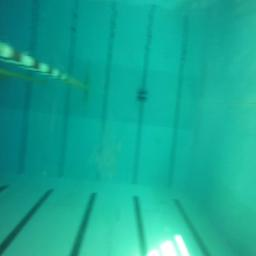Full: (136, 88, 148, 100)
